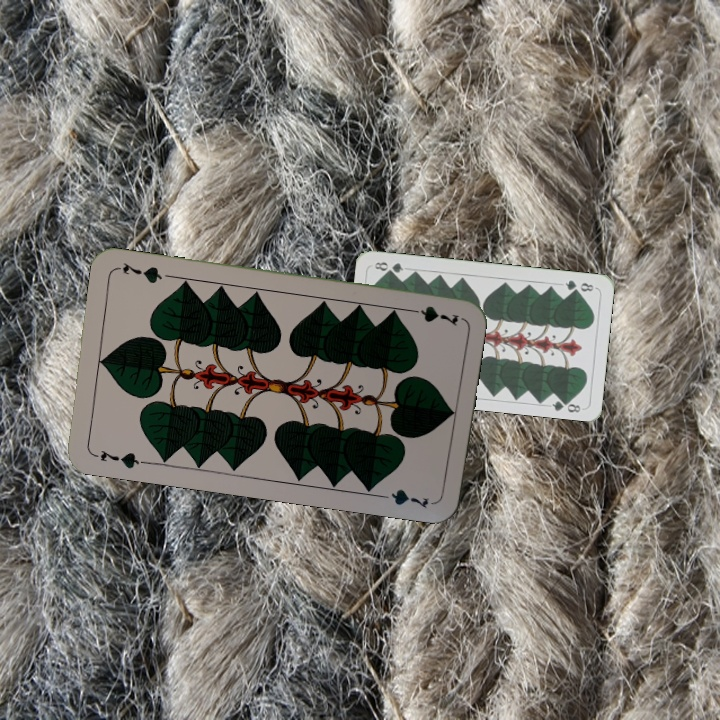G7: (402, 302, 461, 328), (89, 446, 148, 471)
G8: (561, 276, 596, 295)
